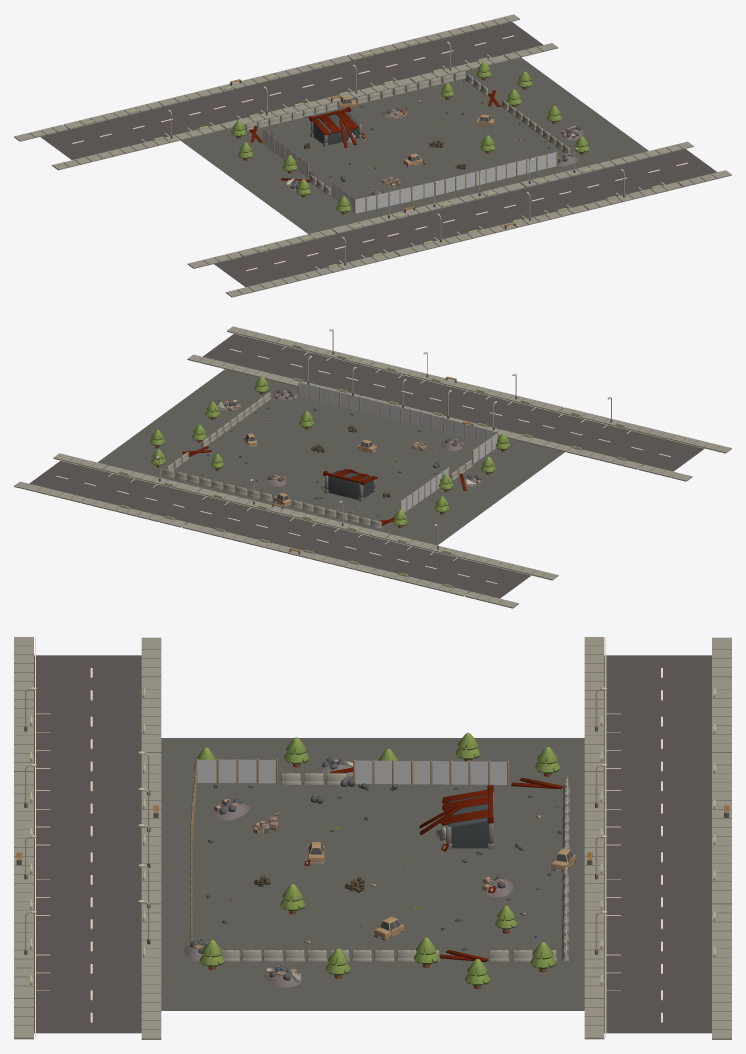
Rendered from SM_Env_1_B.fbx.
3 renders of one model, top to bottom at view 1: azimuth 30°, elevation 25°; view 2: azimuth 150°, elevation 25°; view 3: azimuth 270°, elevation 25°, orthographic. The views are drawn at different scales.
Visible parts, largest first — view 1: Ground, TRAFFIC_FULL.005, Cube.267, Fences, Pine.011, Cube.042, Cube.007, Cube.045; view 2: Ground, Cube.267, TRAFFIC_FULL.005, Fences, Pine.011, Cube.042, Cube.007, Cube.045; view 3: Ground, Cube.267, TRAFFIC_FULL.005, Fences, Pine.011, Cube.007, Cube.045, Cube.042.
Part boxes in pixels (x1,y1,x2,y2): Ground: (180,57,648,233); TRAFFIC_FULL.005: (187,141,731,297); Cube.267: (14,14,558,170); Fences: (262,129,557,213); Pine.011: (231,62,589,214); Cube.042: (245,71,466,130); Cube.007: (309,107,362,147); Cube.045: (465,73,570,154); Ground: (97,369,564,545); Cube.267: (14,453,558,608); TRAFFIC_FULL.005: (187,326,731,481); Fences: (298,382,498,512); Pine.011: (150,376,510,527); Cube.042: (162,468,382,528); Cube.007: (323,469,377,501); Cube.045: (167,392,271,470); Ground: (161,738,584,1010); Cube.267: (584,637,731,1039); TRAFFIC_FULL.005: (14,637,161,1039); Fences: (190,758,509,943); Pine.011: (194,732,560,988); Cube.007: (419,785,494,849); Cube.045: (221,949,557,961); Cube.042: (561,776,570,961).
Size of the model in its own units: 12562 by 756 by 9487.
